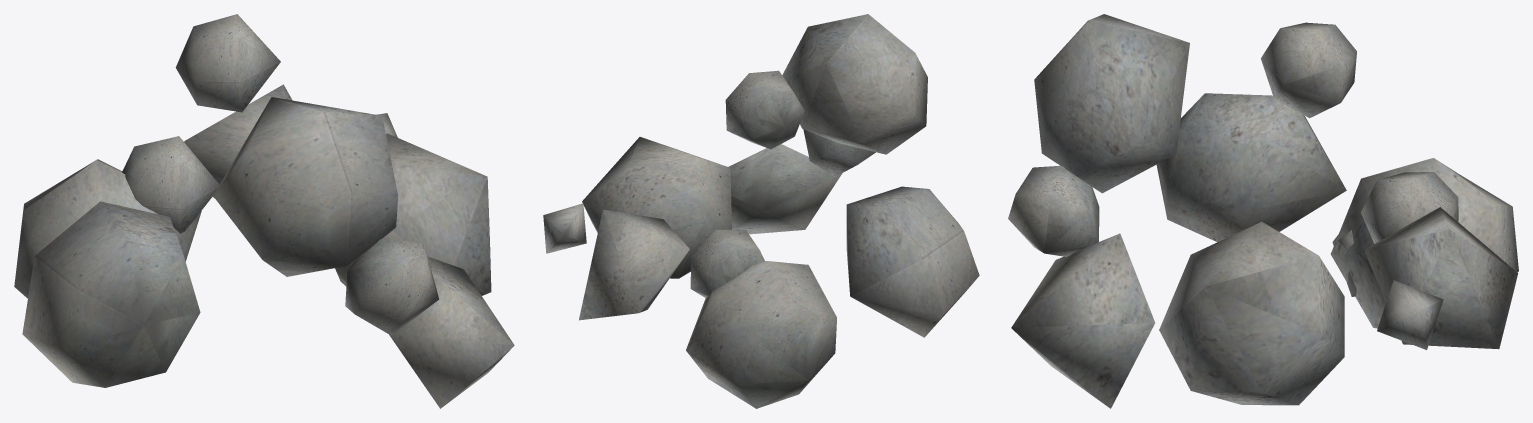
Rendered from stone_effect4.obj.
The picture shows the model from 3 angles, left to right: view 1: azimuth 30°, elevation 25°; view 2: azimuth 150°, elevation 25°; view 3: azimuth 270°, elevation 25°; orthographic projection. The views are drawn at different scales.
Visible parts, largest first — view 1: Sphere011; view 2: Sphere011; view 3: Sphere011.
Part boxes in pixels (x1,y1,x2,y2): Sphere011: (14,14,514,408); Sphere011: (543,14,979,408); Sphere011: (1008,14,1518,408).
Bounding box in the file's own units: 132 × 93.81 × 132.
Materials: 1 (1 with a texture image).
